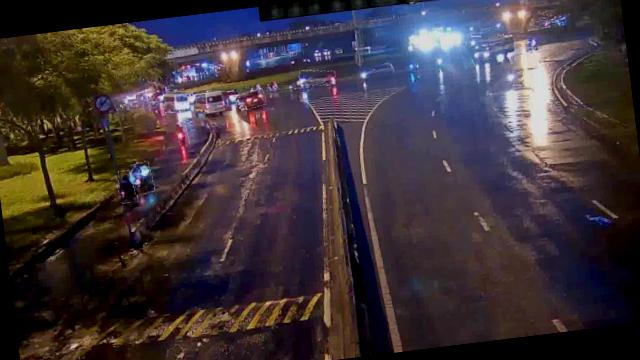Bike: (128, 161, 154, 194), (116, 169, 140, 204), (176, 122, 189, 146)
Bus: (190, 91, 226, 117), (162, 88, 195, 114)
Car: (298, 68, 336, 88), (237, 89, 266, 110)
